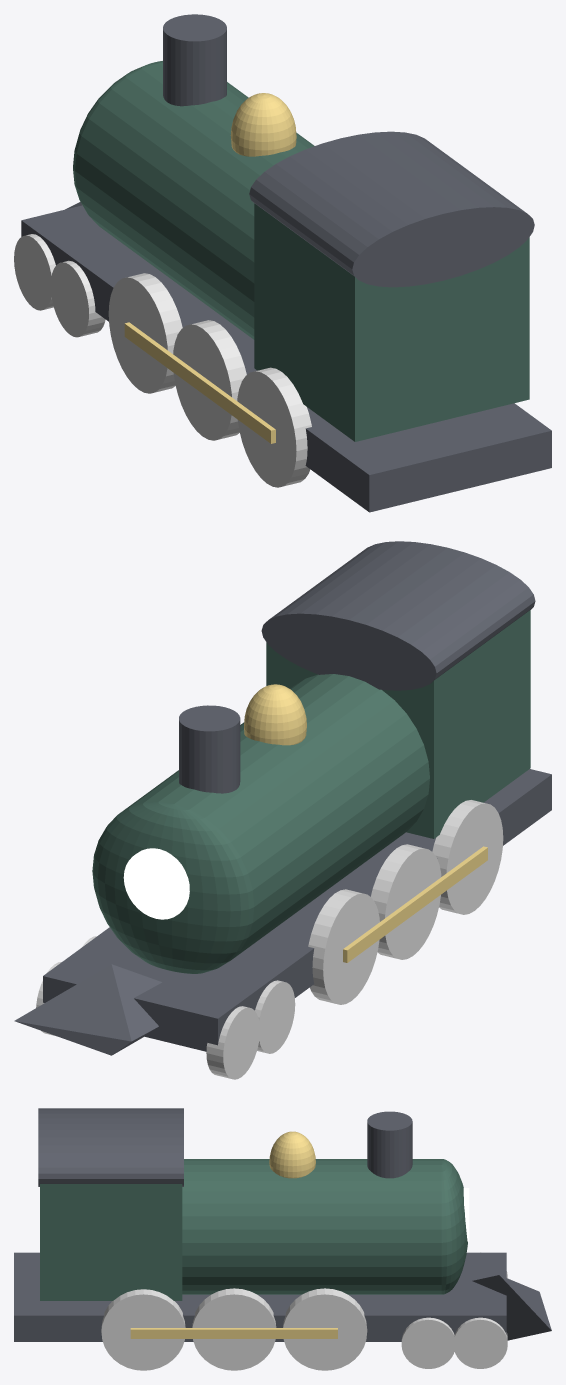
The model's file is trolley.glb.
The picture shows the model from 3 angles, top to bottom: view 1: azimuth 30°, elevation 25°; view 2: azimuth 150°, elevation 25°; view 3: azimuth 270°, elevation 25°; orthographic projection. The views are drawn at different scales.
Parts seen in each view (by area): view 1: LocomotiveEngine; view 2: LocomotiveEngine; view 3: LocomotiveEngine.
Part boxes in pixels (x1,y1,x2,y2): LocomotiveEngine: (14, 14, 551, 512); LocomotiveEngine: (14, 541, 551, 1079); LocomotiveEngine: (14, 1108, 551, 1370).
Bounding box in the file's own units: 2.7 × 3.65 × 8.3.
